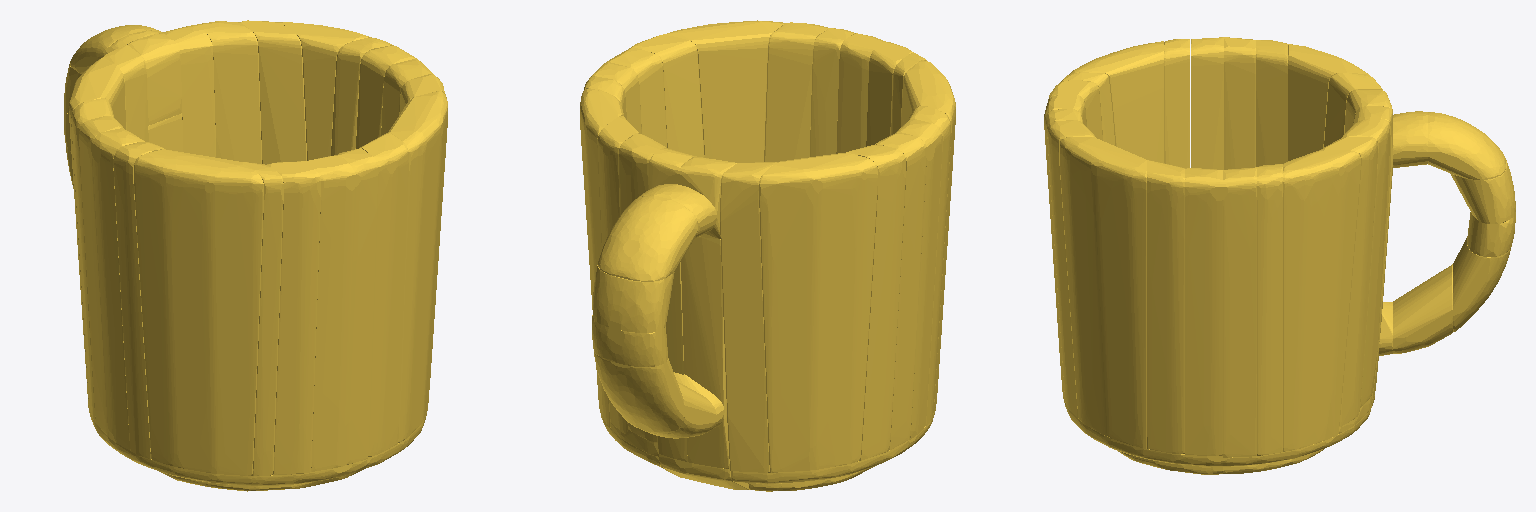
URDF robot description (449.urdf):
<?xml version="1.0" ?>
<robot name="449.urdf">
	<link name="baseLink">
		<inertial>
			<origin rpy="0 0 0" xyz="0 0 0"/>
				<mass value="0.1"/>
				<inertia ixx="6e-5" ixy="0" ixz="0" iyy="6e-5" iyz="0" izz="6e-5"/>
		</inertial>
		<visual>
			<origin rpy="0 0 0" xyz="0 0 0"/>
			<geometry>
				<mesh filename="35_decom_wt.obj" scale="1.05 1.05 1.03"/>
			</geometry>
			<material name="yellow">
				<color rgba="0.98 0.84 0.35 1"/>
			</material>
		</visual>
		<collision>
			<origin rpy="0 0 0" xyz="0 0 0"/>
			<geometry>
				<mesh filename="35_decom_wt.obj" scale="1.05 1.05 1.03"/>
			</geometry>
		</collision>
	</link>
</robot>

--- Render facts (derived) ---
Views: 3 orthographic renders of the robot side by side, from view 1: azimuth 30°, elevation 25°; view 2: azimuth 150°, elevation 25°; view 3: azimuth 270°, elevation 25°.
Robot: 449.urdf — 1 links, 0 joints (none); root link baseLink; default pose: all joints at 0.
Visible links, largest first — view 1: baseLink; view 2: baseLink; view 3: baseLink.
Link boxes in pixels (left/top/right/bottom): baseLink: left=64, top=20, right=447, bottom=491; baseLink: left=580, top=20, right=955, bottom=491; baseLink: left=1044, top=37, right=1515, bottom=474.
Bounding box of the posed robot: 0.1448 × 0.1957 × 0.1455 m (x, y, z).
1 mesh visuals loaded from 1 distinct referenced files (1 OBJ).